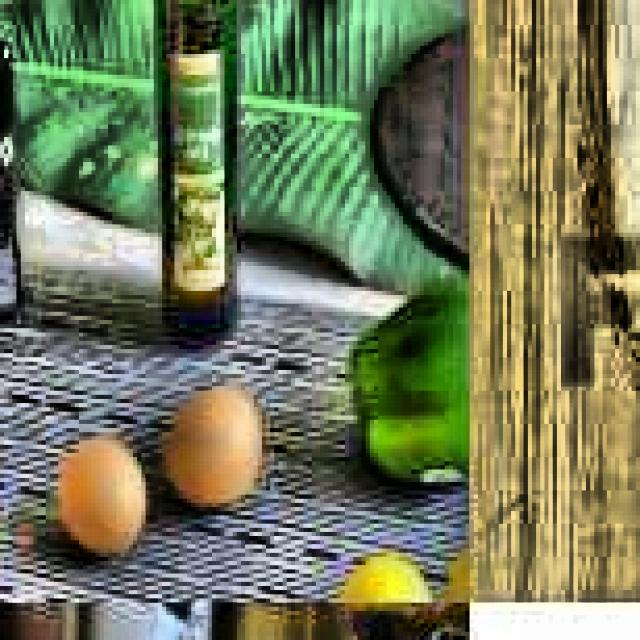bell_pepper: (332, 254, 470, 491)
egg: (162, 378, 279, 524), (50, 436, 158, 563)
